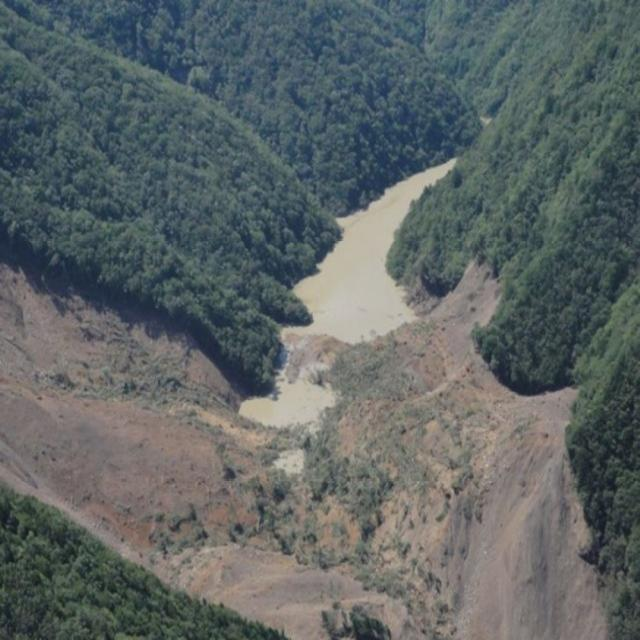Debris-flow: (0, 263, 608, 639)
